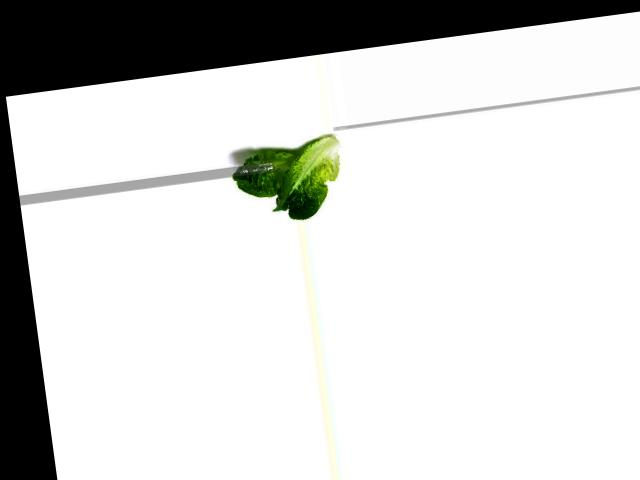lettuce: (226, 137, 351, 229)
